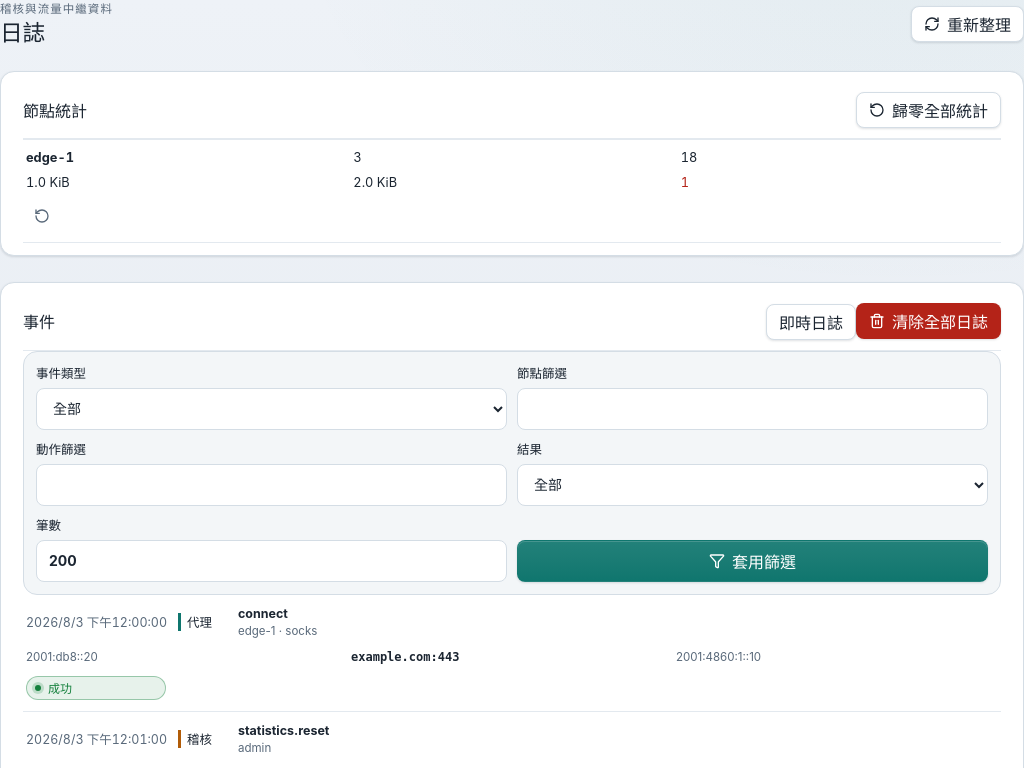
LogsView › requires explicit confirmation before clearing all log rotations
The width and height of the screenshot is (1024, 768).
Expected: the text "example.com:443" is shown, left=351, top=650, right=459, bottom=664
Click the button "清除全部日誌". click: (928, 321)
box: left=856, top=303, right=1001, bottom=339
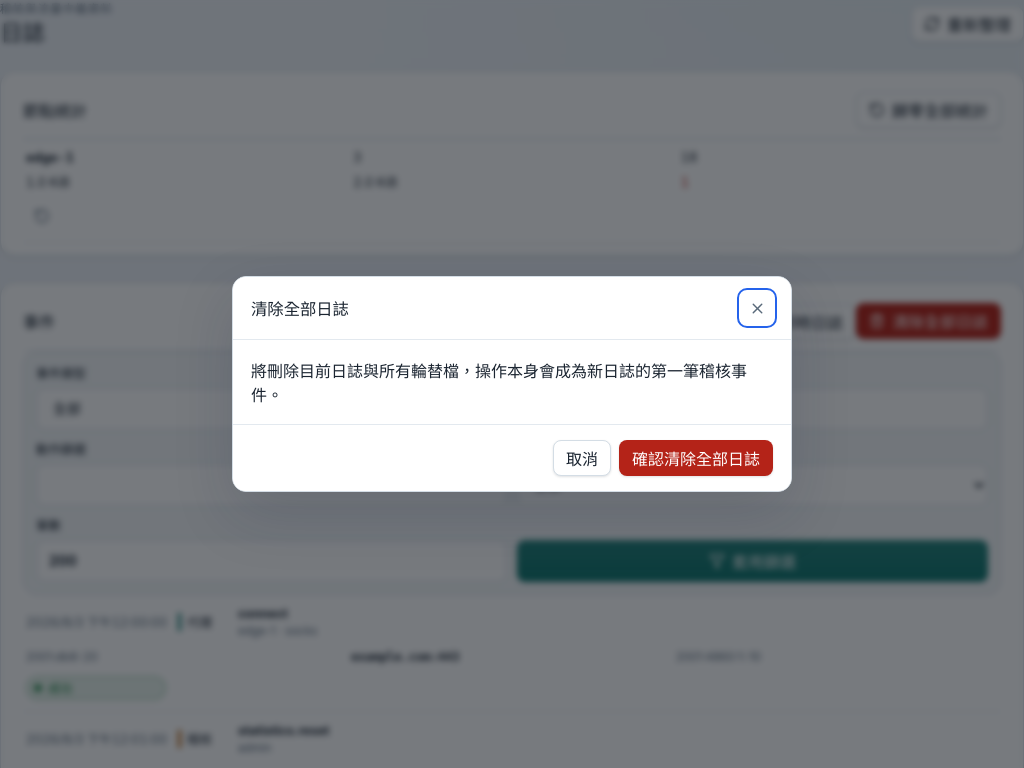
Expected: the dialog "清除全部日誌" shows "所有輪替檔", left=251, top=361, right=747, bottom=405
Click the button "確認清除全部日誌". click: (696, 458)
box: left=619, top=440, right=773, bottom=476
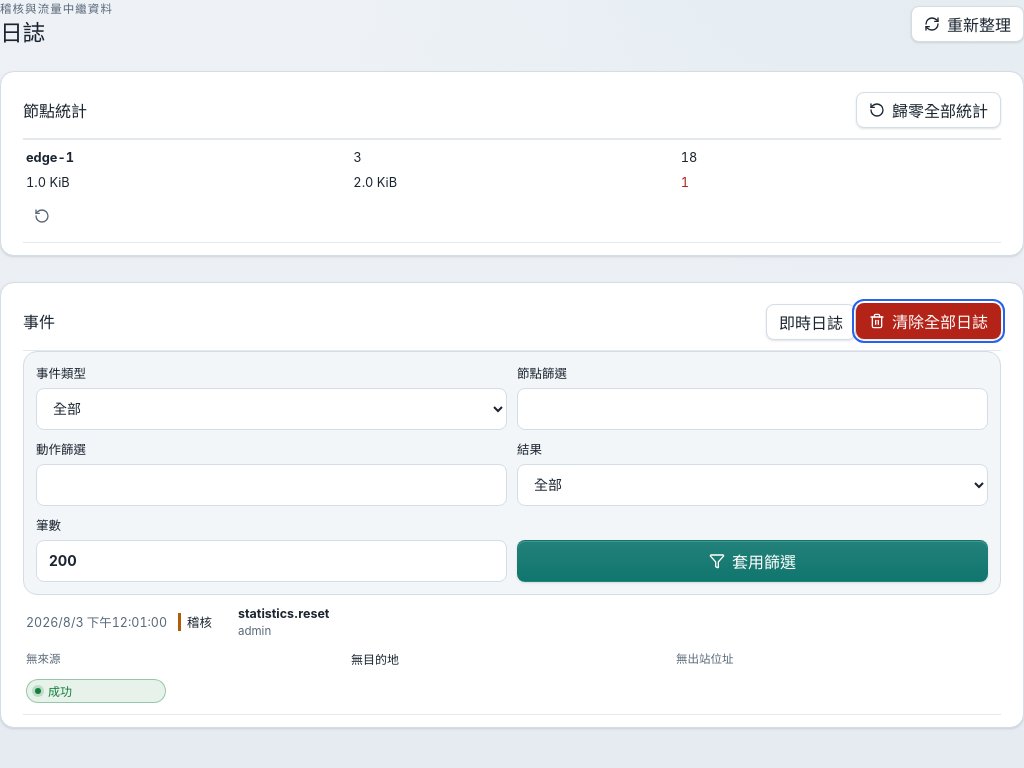
Expected: the text "statistics.reset" is shown, left=238, top=606, right=329, bottom=621
Expected: the text "example.com:443" is gone
